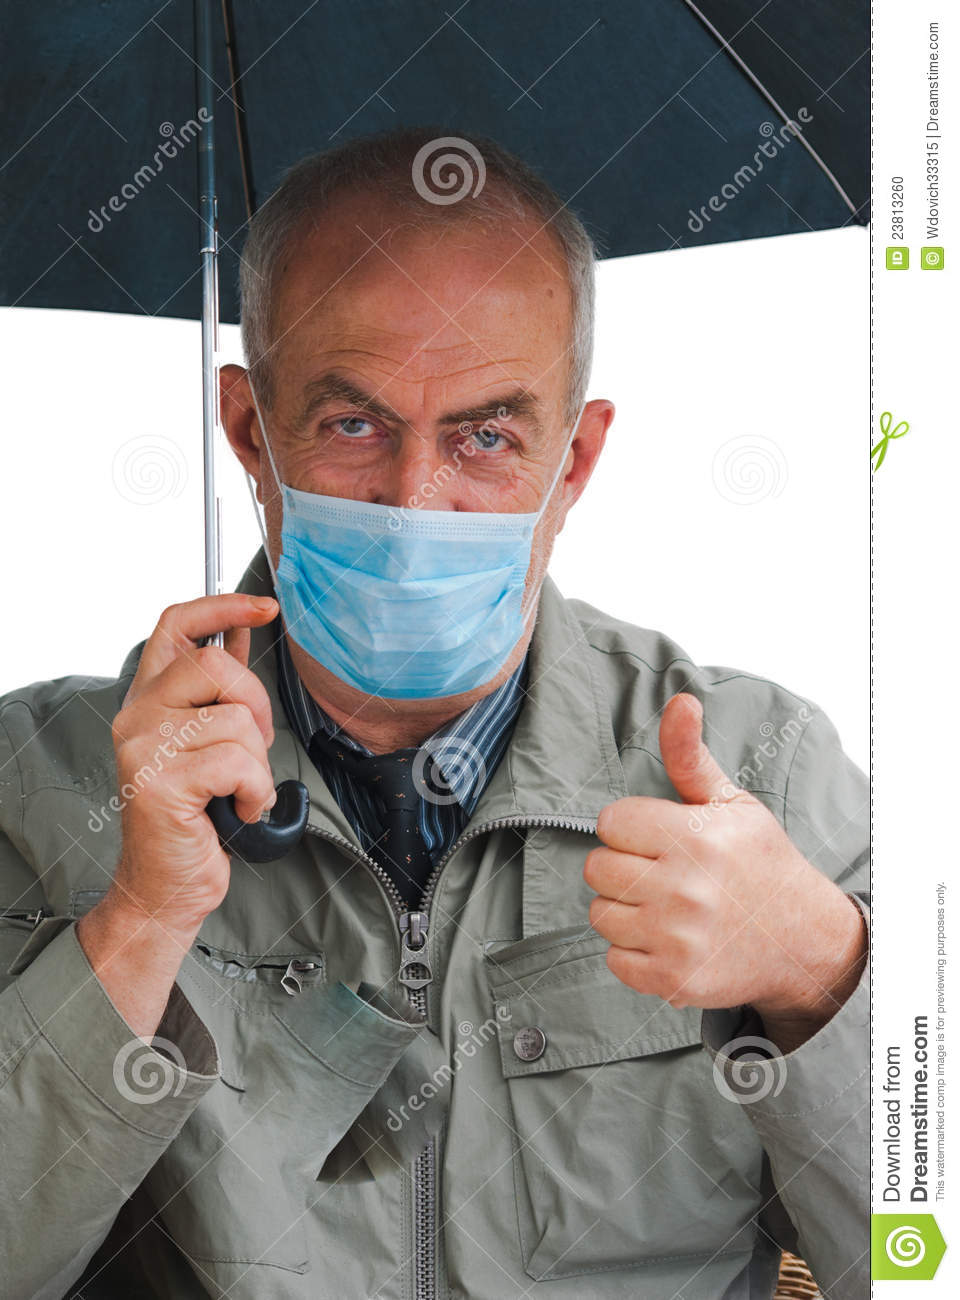mask: (246, 489, 570, 689)
